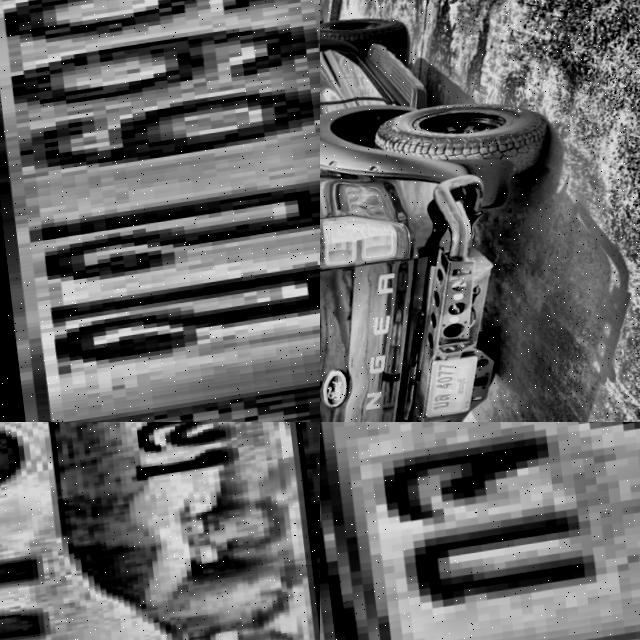license-plate: (0, 0, 320, 422), (0, 422, 320, 640), (320, 422, 640, 640), (417, 356, 485, 422)
